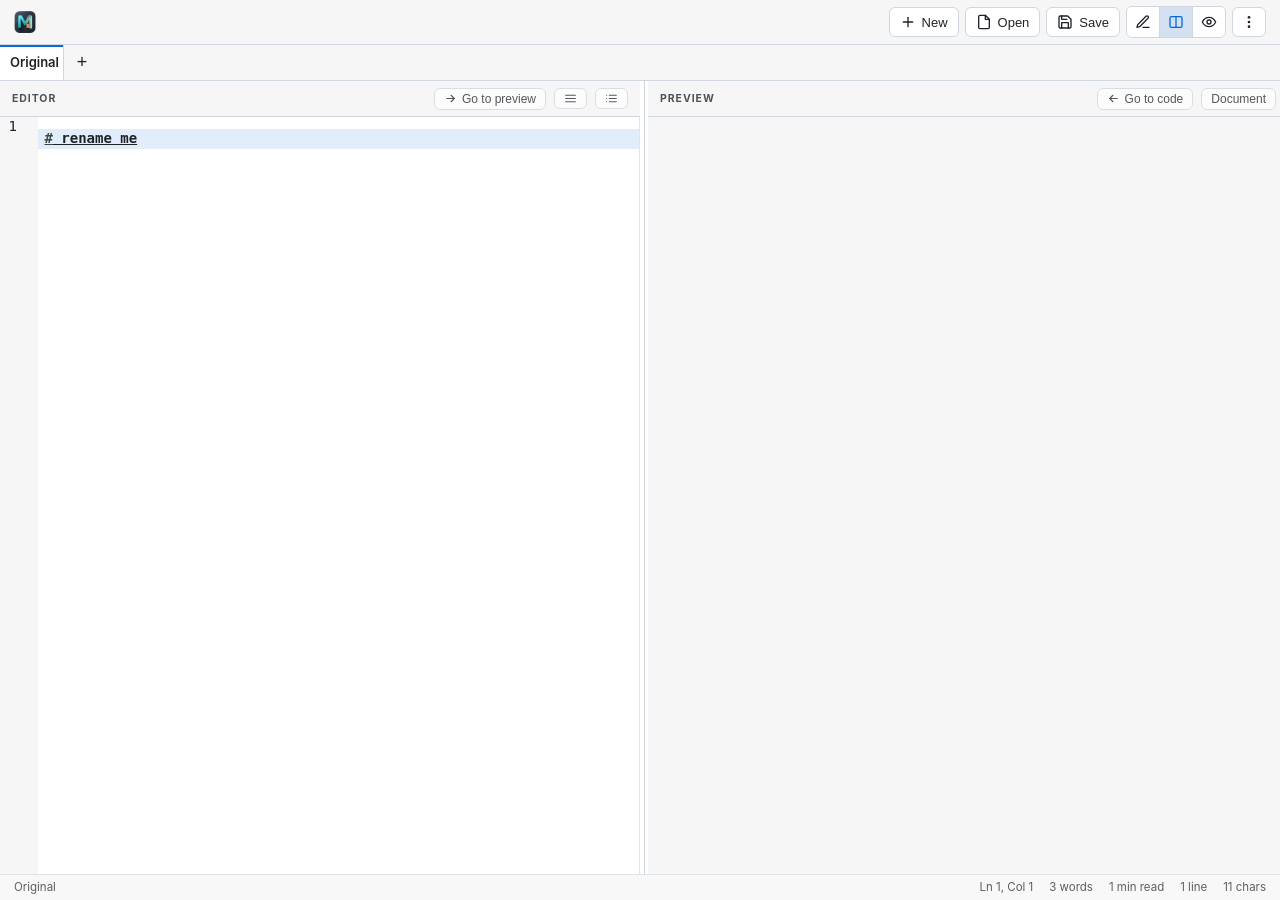
Test: in-window rename dialog › keeps the original name when cancelled
expect the element with class "cm-editor" is shown: met, box x1=0 y1=117 x2=639 y2=874
Double-click the tab with class "tab-main" at (32, 62), box x1=0 y1=45 x2=63 y2=80
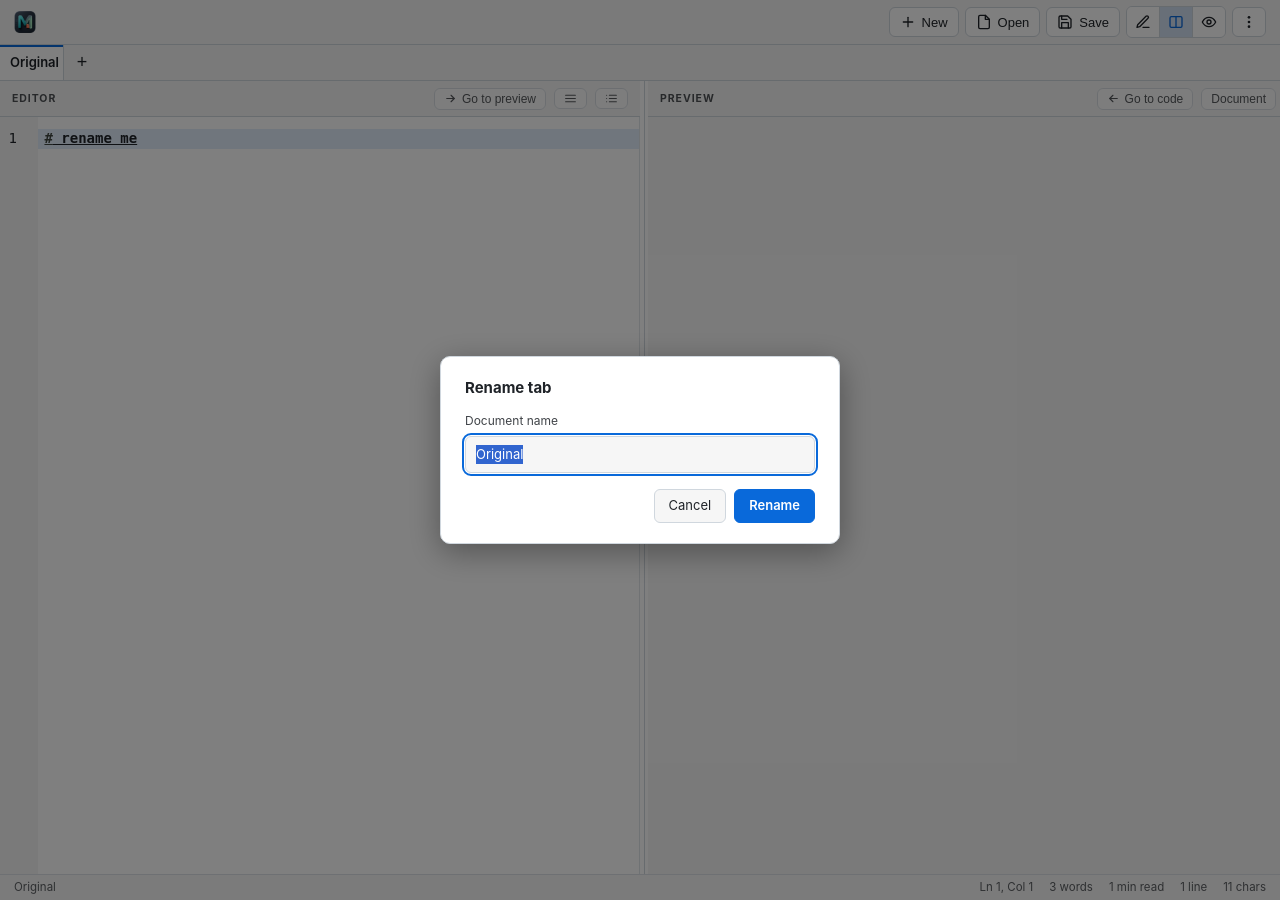
expect the field with class "rename-input" is shown: met
Replace the text in the field with class "rename-input" with "Should Not Apply". click: (640, 455)
box: x1=465 y1=436 x2=815 y2=473
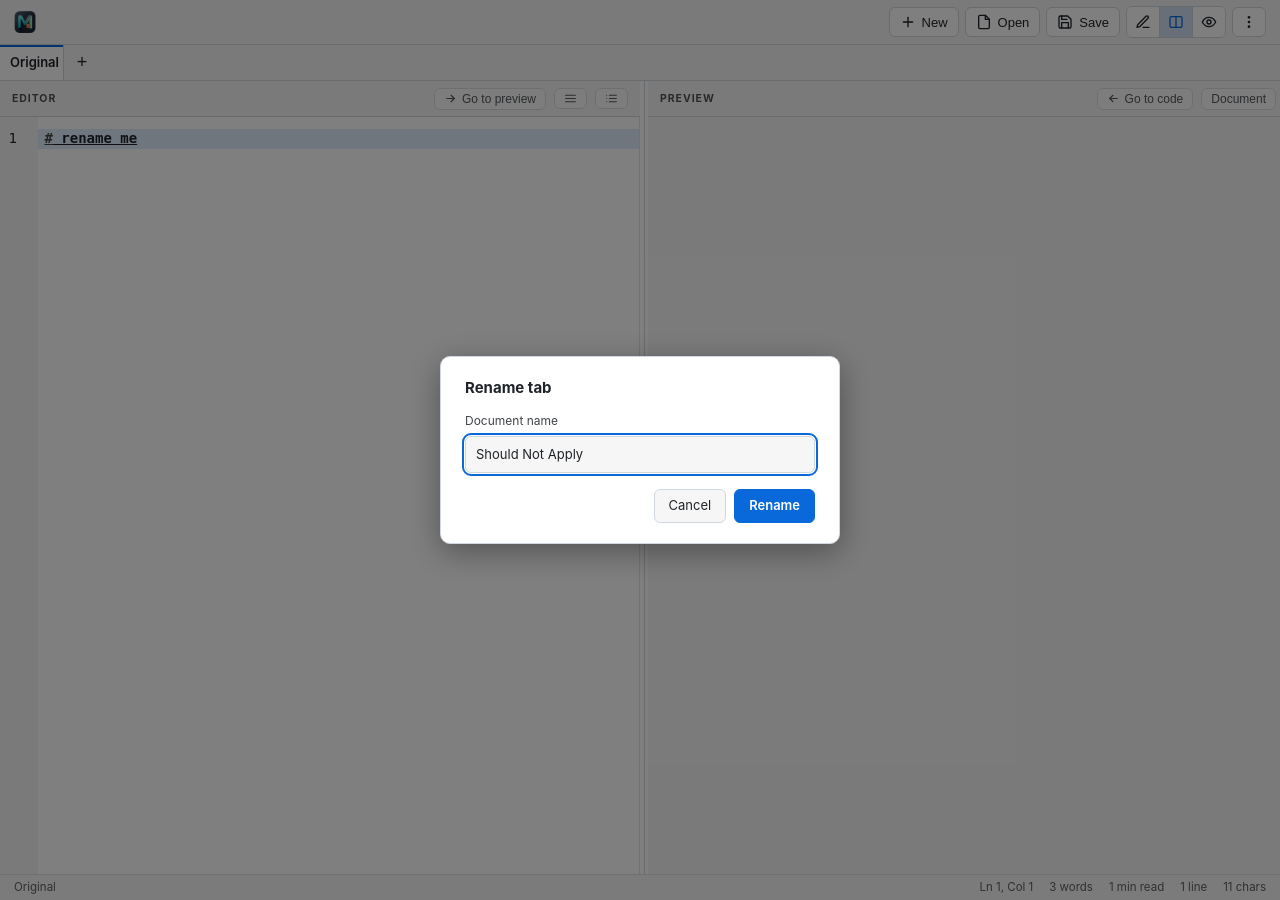
Press Escape in the field with class "rename-input", box x1=465 y1=436 x2=815 y2=473
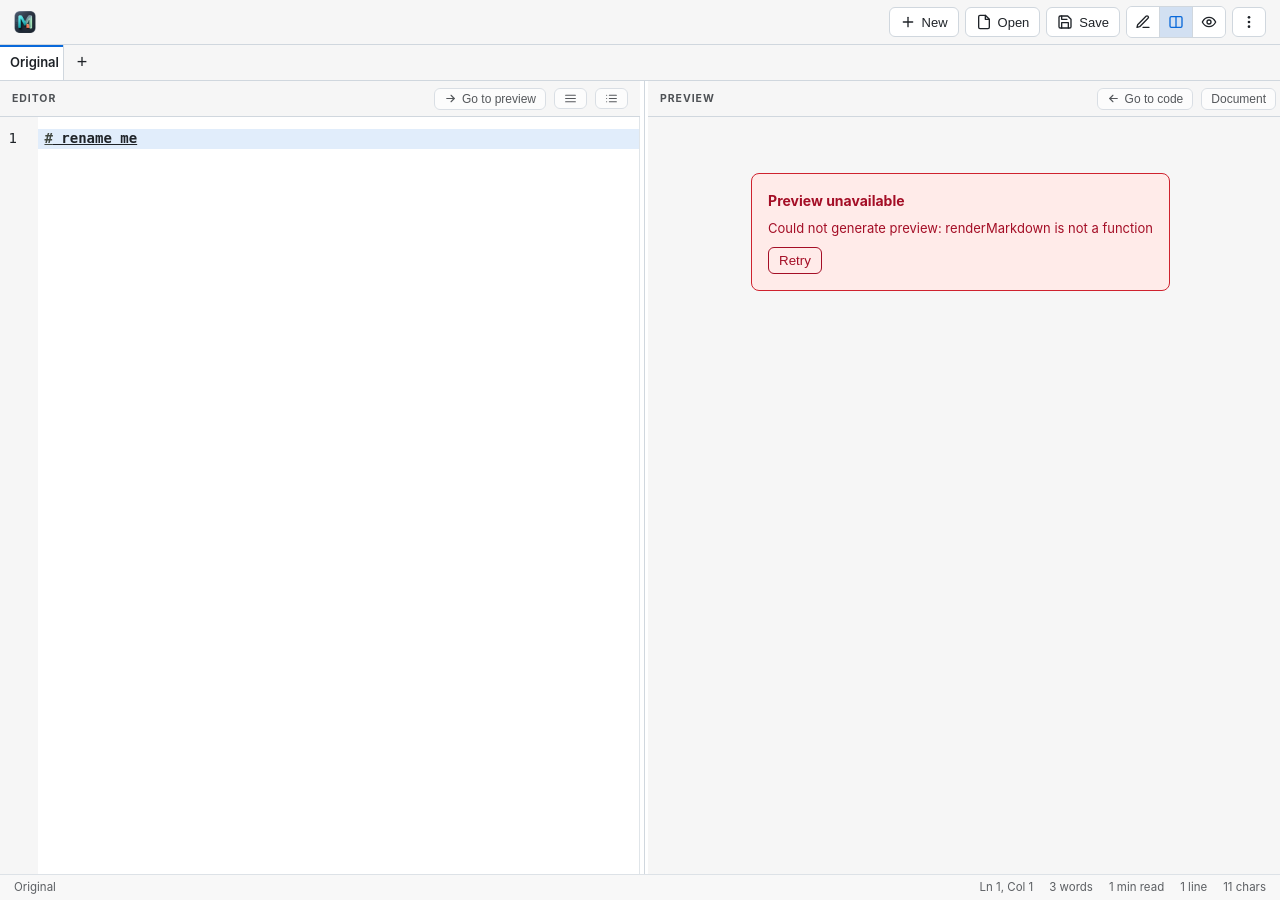
expect the text with class "tab-name" reads "Original": met, box x1=10 y1=54 x2=59 y2=70
expect the dialog is gone: met
